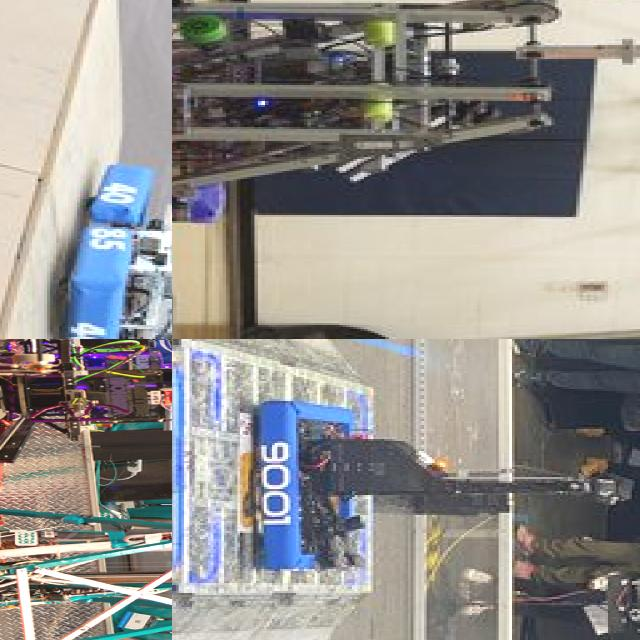FRC-Robots: (172, 0, 625, 279), (256, 391, 626, 587), (0, 339, 172, 500), (0, 494, 172, 640), (40, 189, 172, 339)
